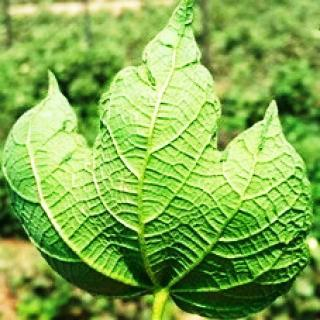curl: (4, 25, 312, 320)
